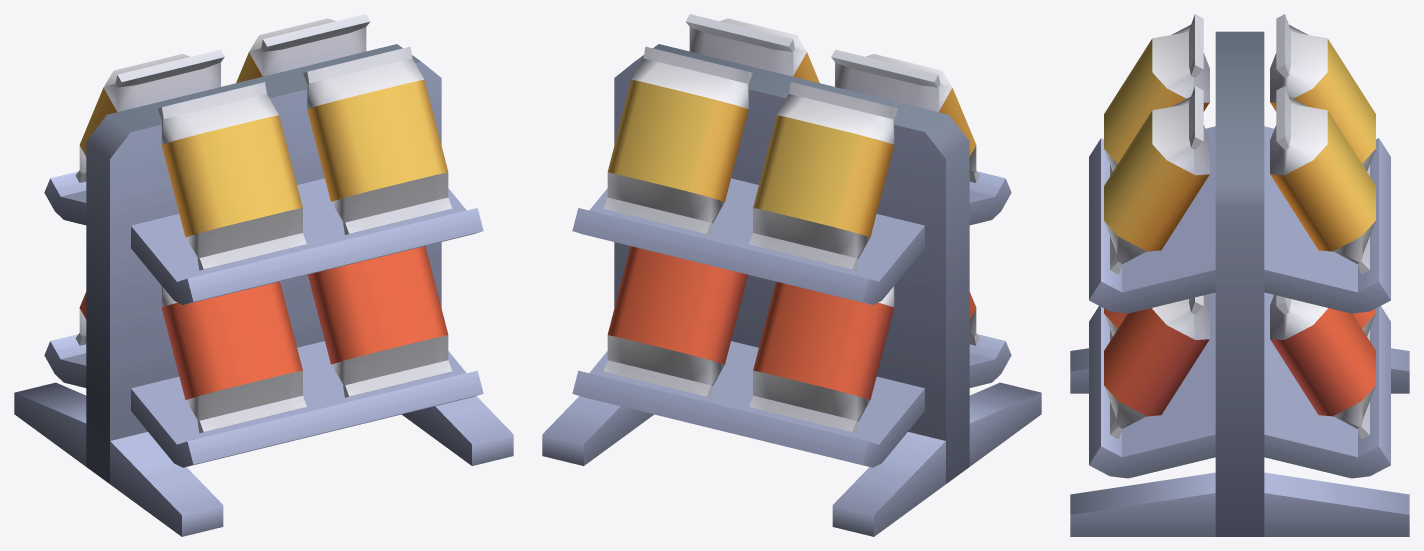
File: market.shelf_bags.glb
The picture shows the model from 3 angles, left to right: view 1: azimuth 30°, elevation 25°; view 2: azimuth 150°, elevation 25°; view 3: azimuth 270°, elevation 25°; orthographic projection.
Parts seen in each view (by area): view 1: bag (×6), shelf-bags; view 2: bag (×6), shelf-bags; view 3: shelf-bags, bag (×6).
Part boxes in pixels (left/top/right/bottom): bag (×6): left=75, top=14, right=452, bottom=433; shelf-bags: left=14, top=44, right=513, bottom=536; bag (×6): left=603, top=14, right=980, bottom=433; shelf-bags: left=542, top=44, right=1041, bottom=536; shelf-bags: left=1070, top=31, right=1409, bottom=536; bag (×6): left=1104, top=14, right=1375, bottom=439.
Bounding box in the file's own units: 2.05 × 2.21 × 1.79.
1 material, 1 textured.
